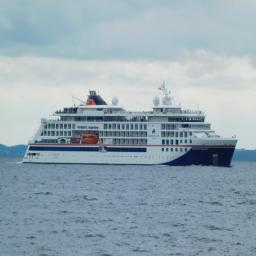cruises: (22, 84, 241, 171)
